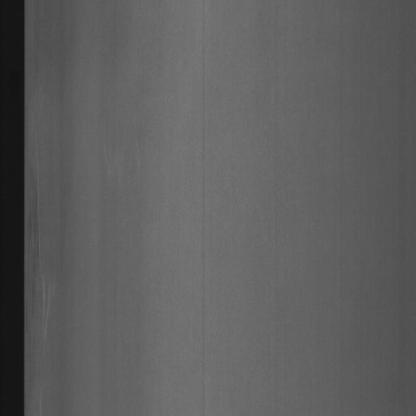silk_spot: (26, 123, 53, 392)
